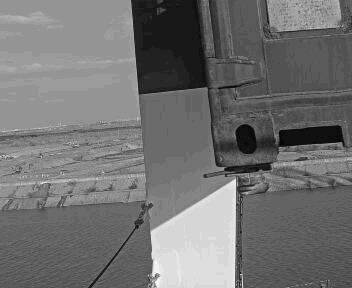twist_lock_1: (212, 162, 269, 201)
